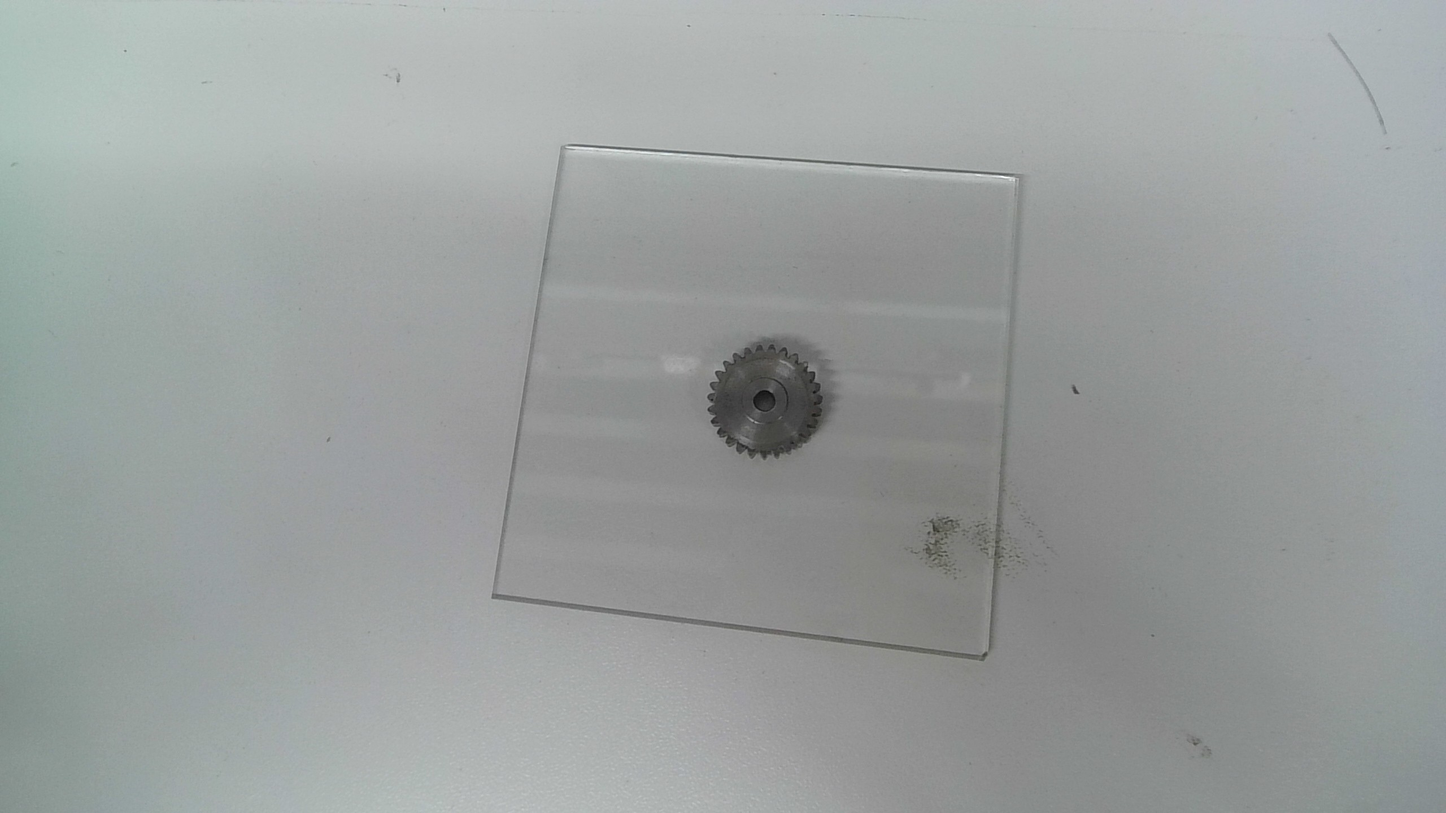gear: (704, 339, 826, 464)
